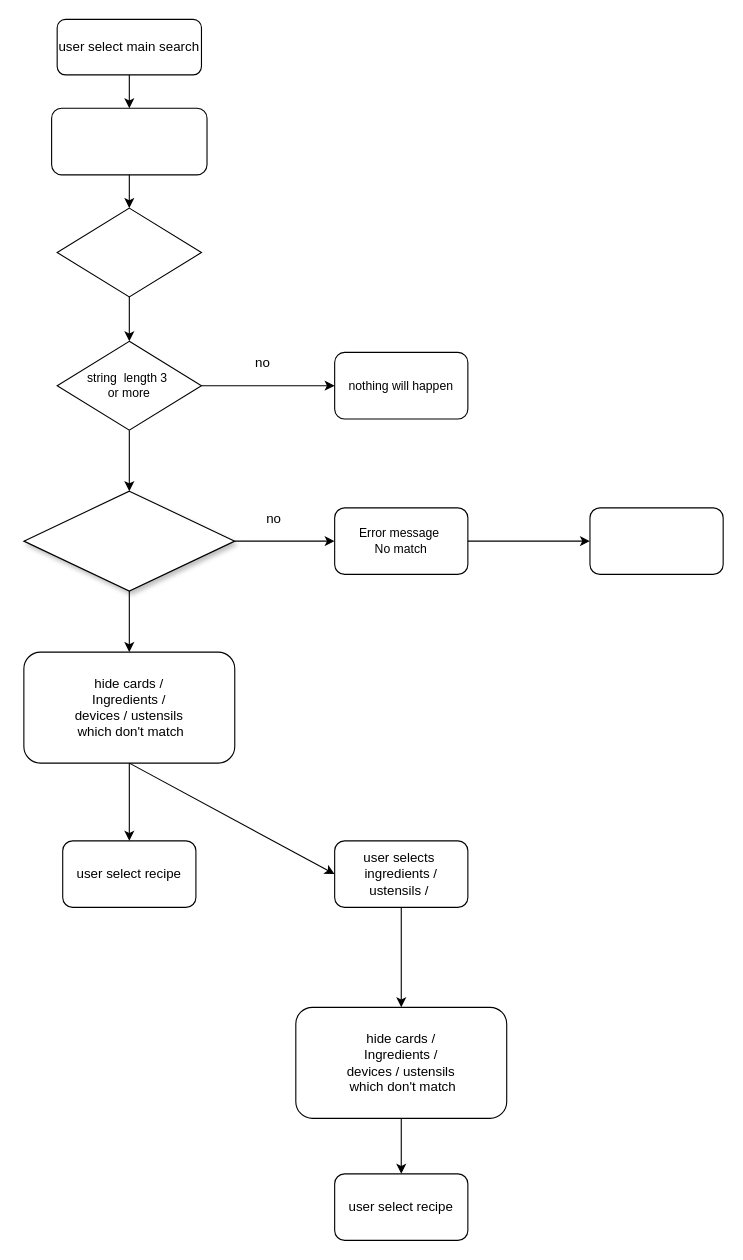
Some shapes in this 743 by 1260 pixel diagram are drawn without their labels. The shapes that lost their labels are listed below. From the top down, each one's centre as x and y in pixels, then its label:
At (129,141): "user type in recipe name / ingredient / device".
At (128,252): "string tolowercase".
At (129,542): "recipe / ingredient / device is in Database".
At (656,540): "hide cards and ingredients / devices / ustensils updated".
